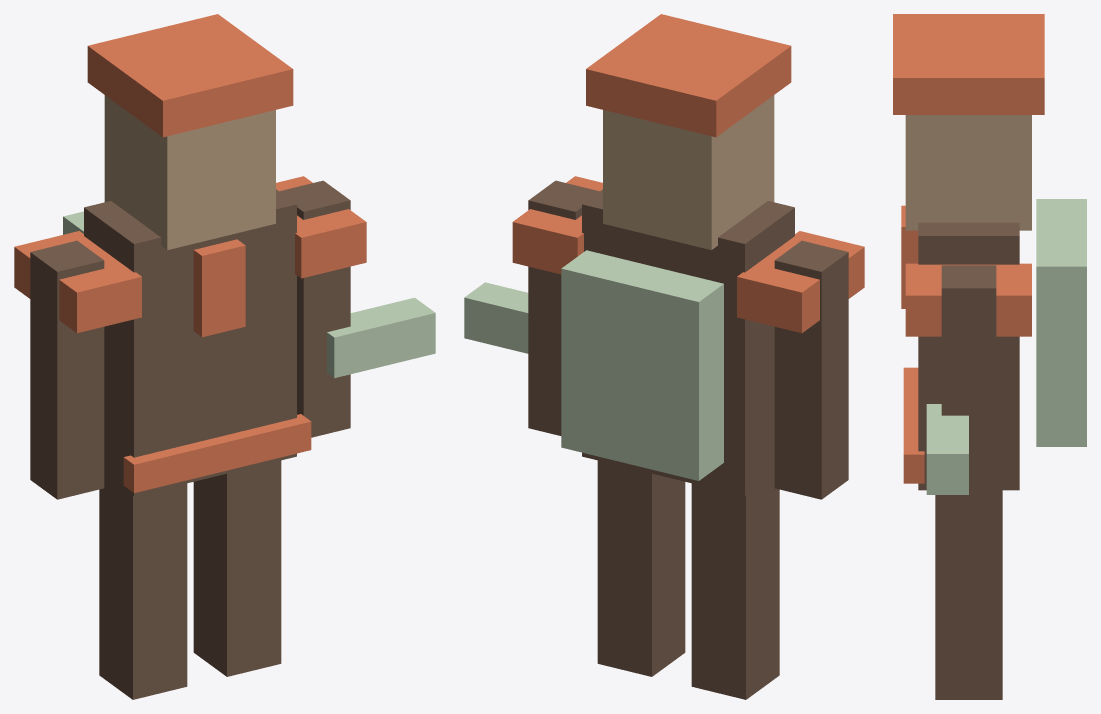
Rendered from 16_bryn_holloway_tactician_at_firewheel.glb.
3 views of the same model, side by side, from view 1: azimuth 30°, elevation 25°; view 2: azimuth 150°, elevation 25°; view 3: azimuth 270°, elevation 25° (orthographic).
Visible parts, largest first — view 1: Bryn Holloway, Tactician at Firewheel; view 2: Bryn Holloway, Tactician at Firewheel; view 3: Bryn Holloway, Tactician at Firewheel.
Boxes of the visible parts, bbox=[...] form: Bryn Holloway, Tactician at Firewheel: bbox=[14, 14, 435, 699]; Bryn Holloway, Tactician at Firewheel: bbox=[464, 14, 864, 699]; Bryn Holloway, Tactician at Firewheel: bbox=[893, 14, 1086, 699].
Bounding box in the file's own units: 1.07 × 1.68 × 0.4786.
